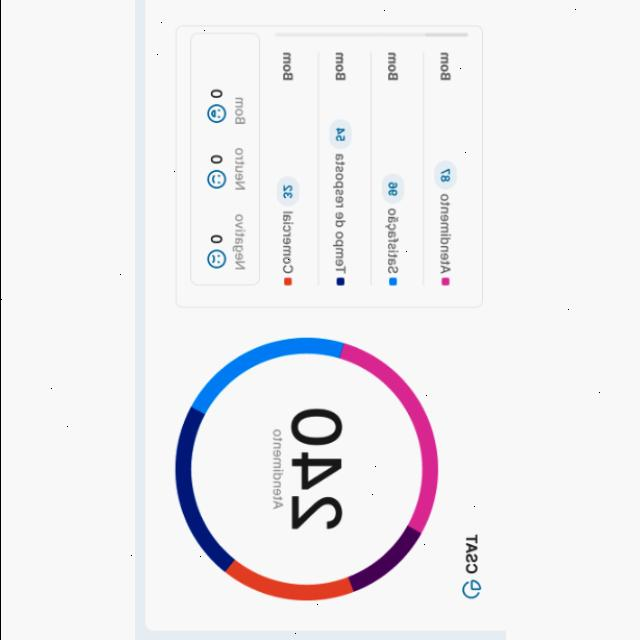Doughnut: (173, 336, 439, 602)
QLabel: (290, 410, 344, 532), (332, 153, 346, 273), (270, 427, 284, 511), (438, 194, 452, 274), (386, 208, 398, 274), (282, 210, 294, 274), (234, 213, 246, 270), (464, 534, 480, 574), (234, 148, 246, 192), (438, 50, 452, 82), (334, 52, 346, 82), (282, 52, 294, 80), (234, 98, 246, 124), (388, 52, 398, 82), (335, 127, 345, 141), (441, 168, 451, 182), (210, 154, 223, 164), (388, 182, 398, 195), (282, 186, 292, 198), (211, 234, 223, 243), (210, 90, 222, 98)
VCard: (144, 0, 506, 632), (174, 25, 484, 309), (189, 32, 261, 286)
VDivider: (421, 51, 425, 286), (316, 51, 320, 286), (370, 52, 372, 286)
VIcon: (462, 580, 482, 600), (207, 105, 227, 123), (208, 250, 226, 268), (208, 171, 226, 189), (388, 277, 398, 287), (336, 277, 344, 287), (442, 278, 451, 286), (284, 278, 292, 286)
